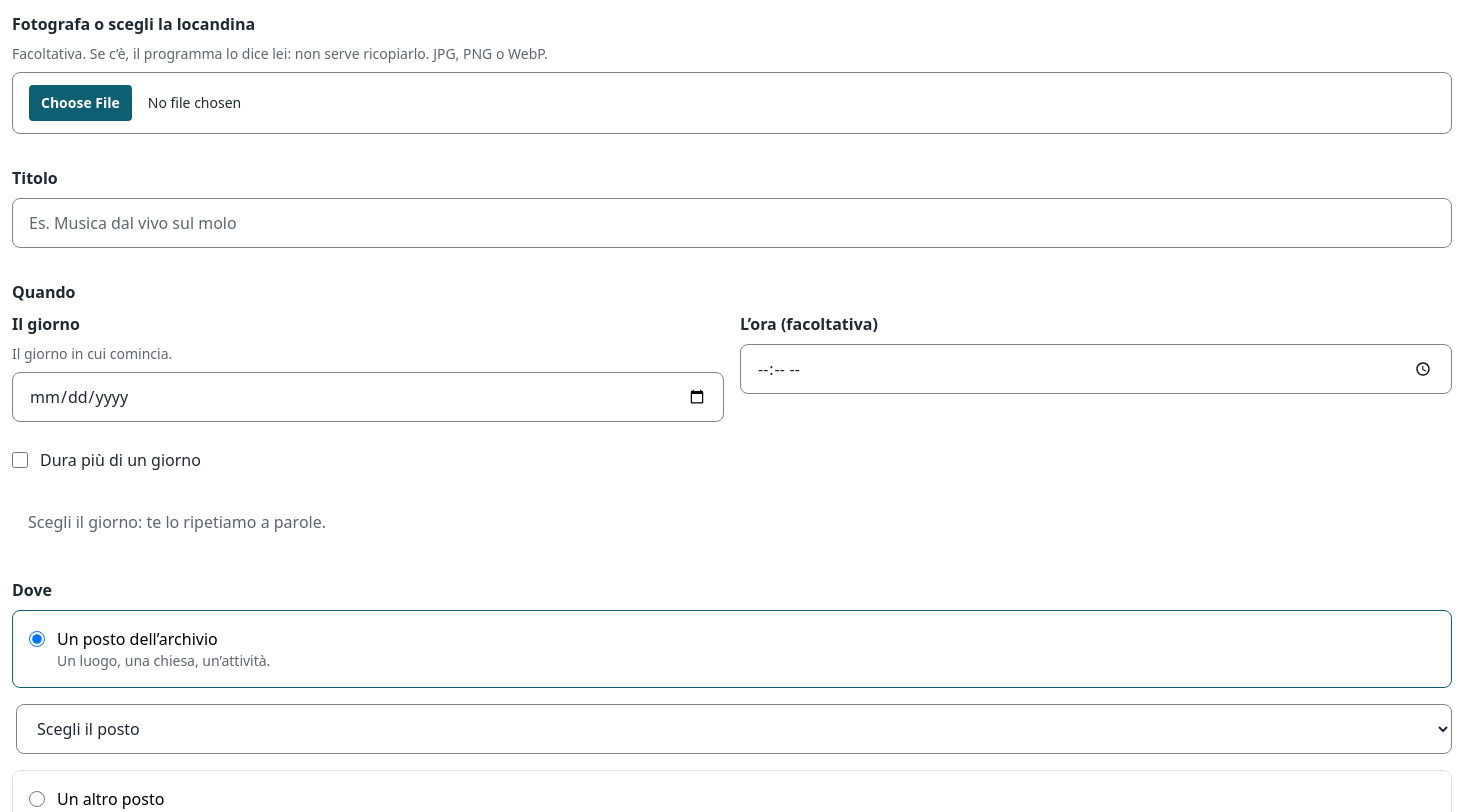
Test: EventForm › says the date back in words before saving, weekday and year included
The image size is (1464, 812).
In the date field with id "evento-start-date": (368, 397) [12,372,724,422], type "2026-10-31"
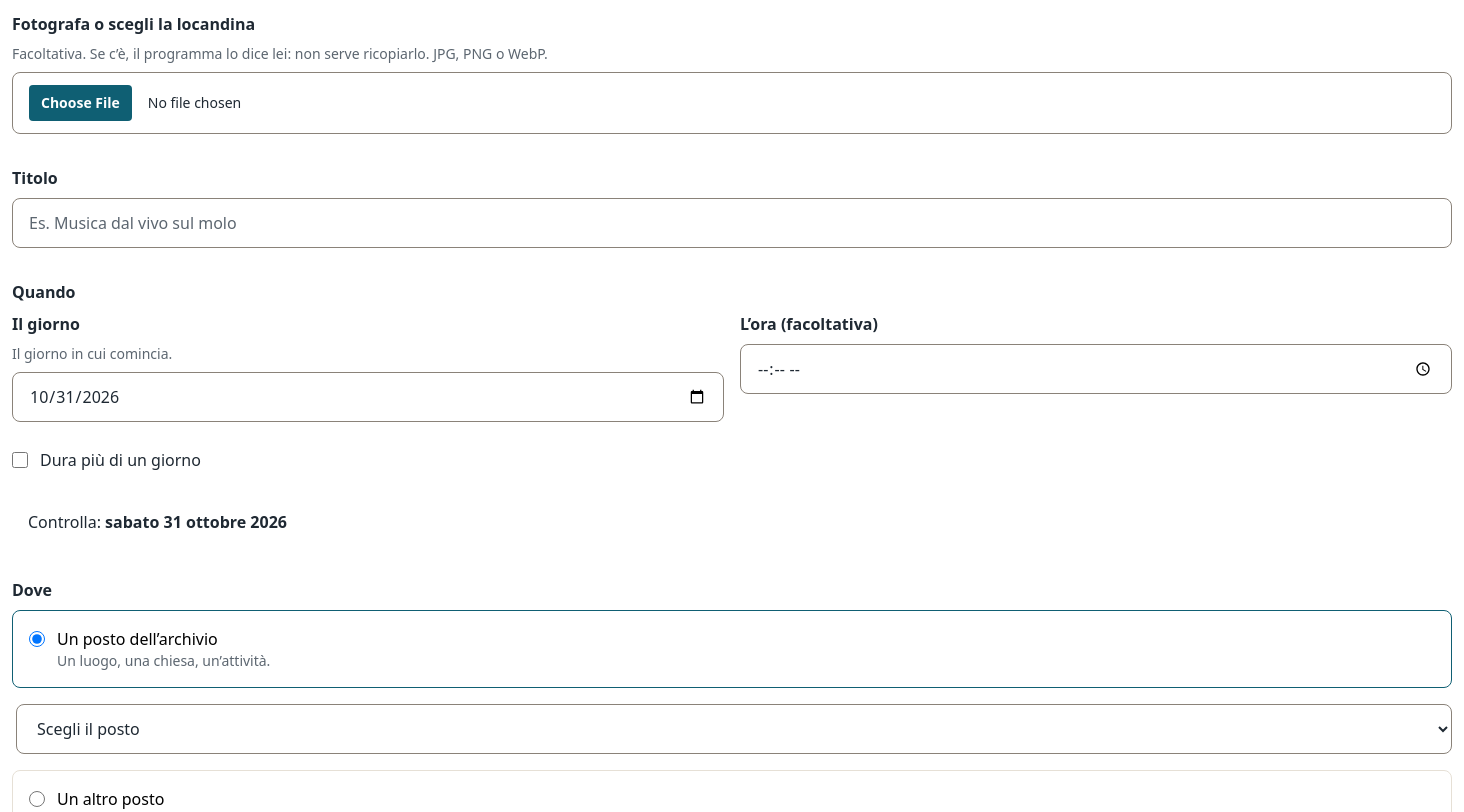
In the time field with id "evento-start-time": (1096, 369) [740,344,1452,394], type "22:00"
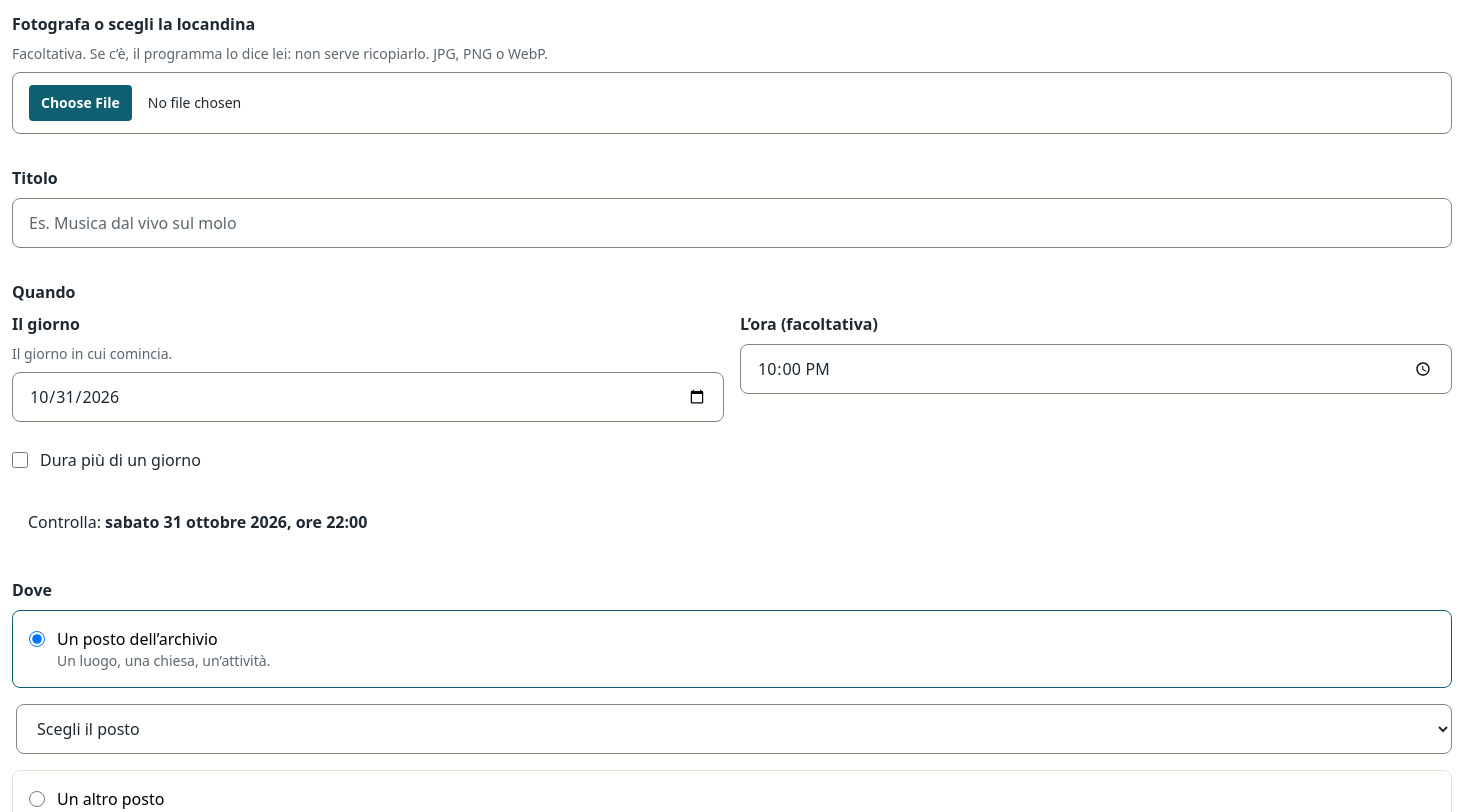
Result: the text "Controlla: sabato 31 ottobre 2026, ore 22:00" is shown at [12,498,1452,546]
